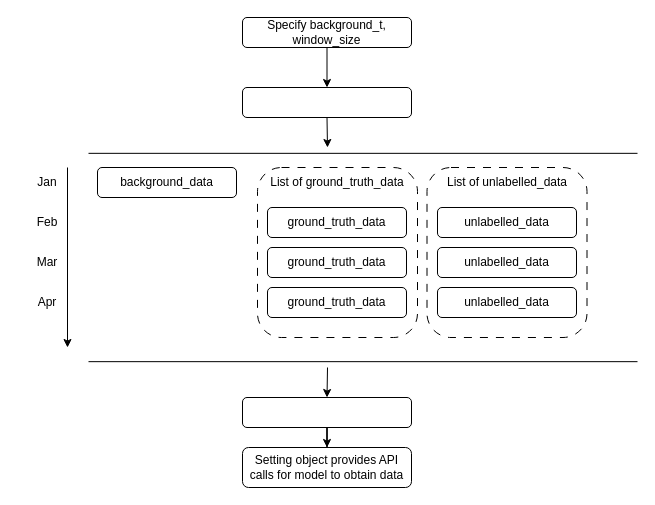
This 655x505 diagram has some shape labels left out. Here are the shapes that lost their labels. From the top down, the box of each, then its label:
(242, 86, 412, 118): Dataset sorted by timestamp
(242, 396, 412, 428): Data stored in setting object
